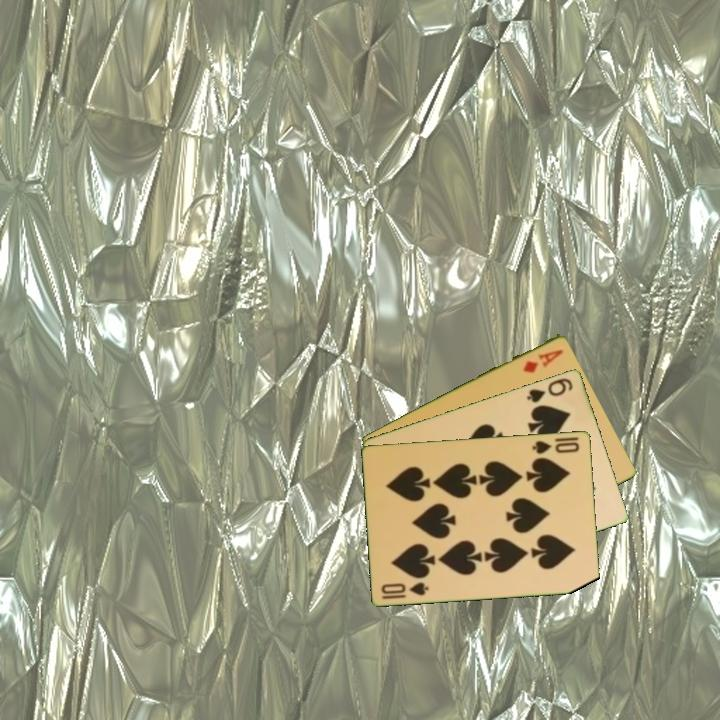10s: (378, 578, 432, 602), (529, 437, 582, 456)
6s: (523, 374, 576, 405)
Ad: (520, 345, 567, 376)
